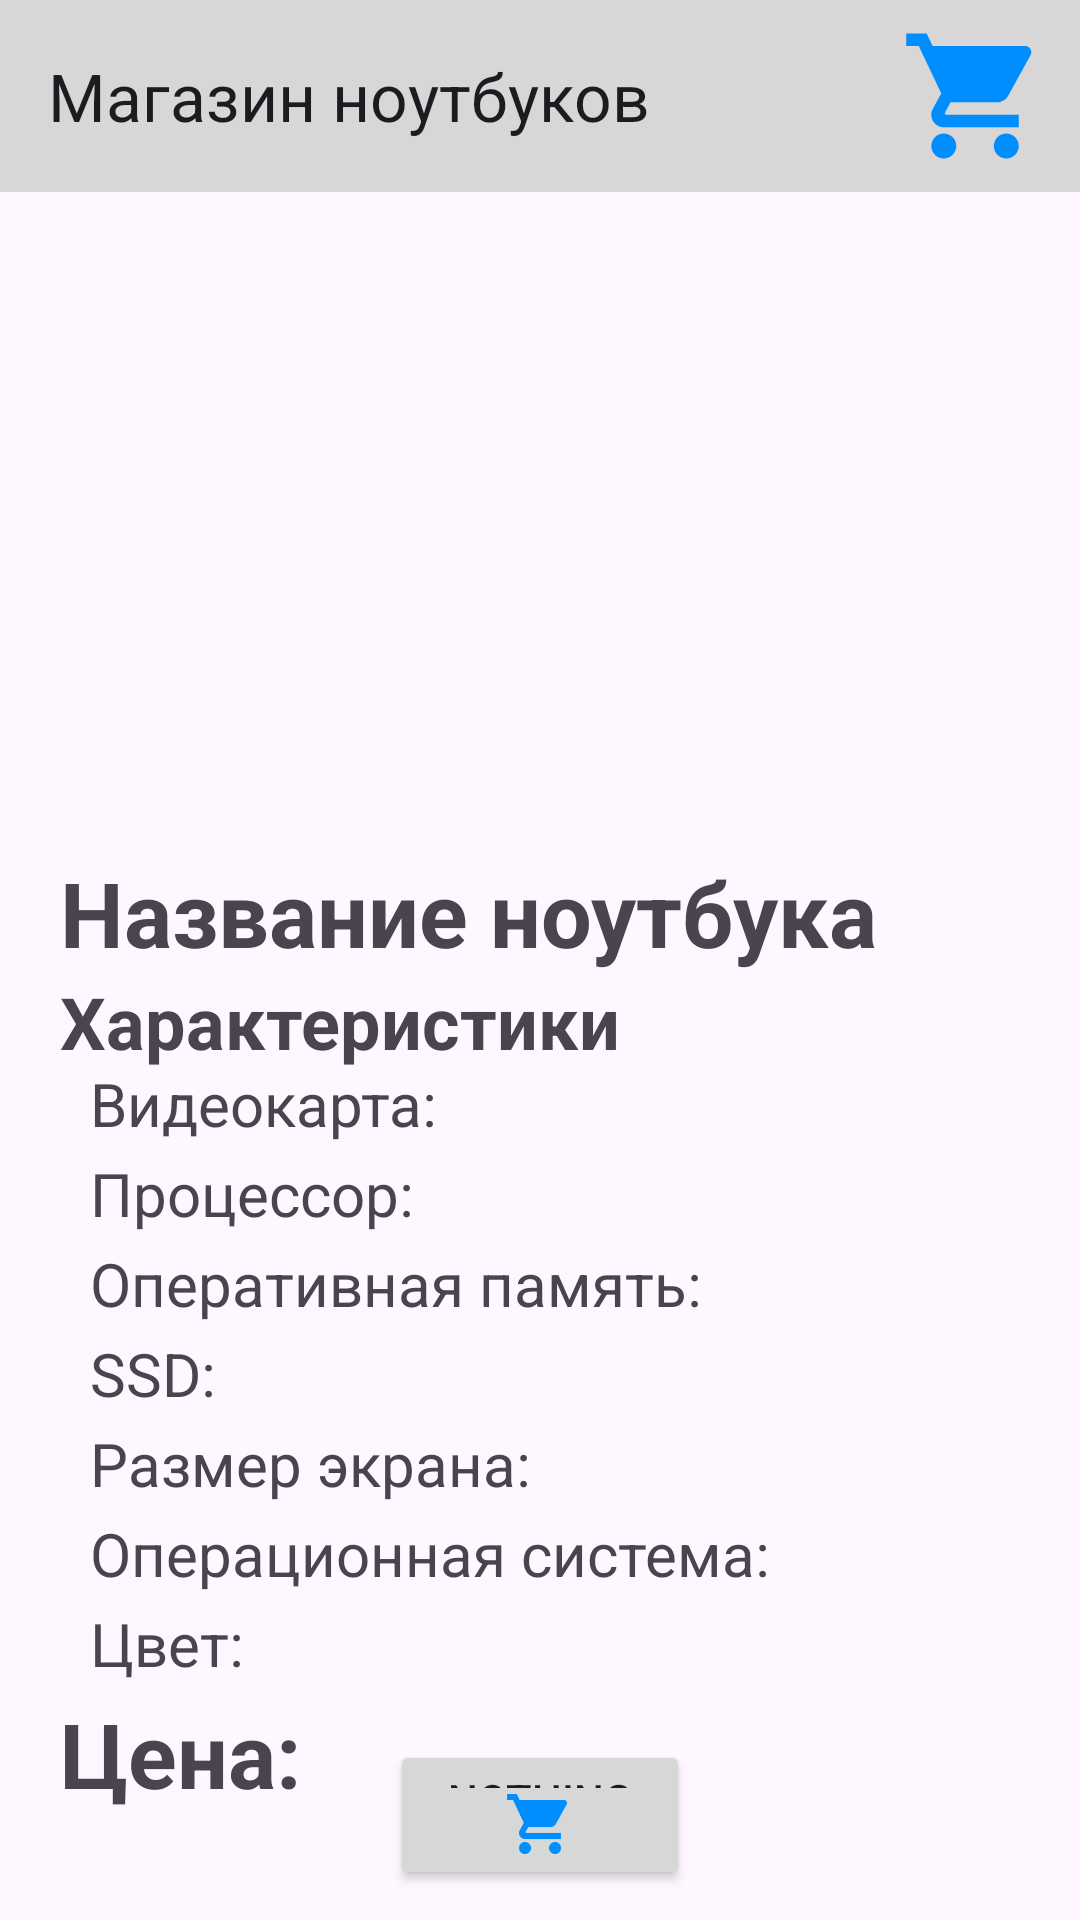

Point at icon controls on the screen. Image size 1080*1920, points as point (x, y).
shopping cart: point (969, 96)
